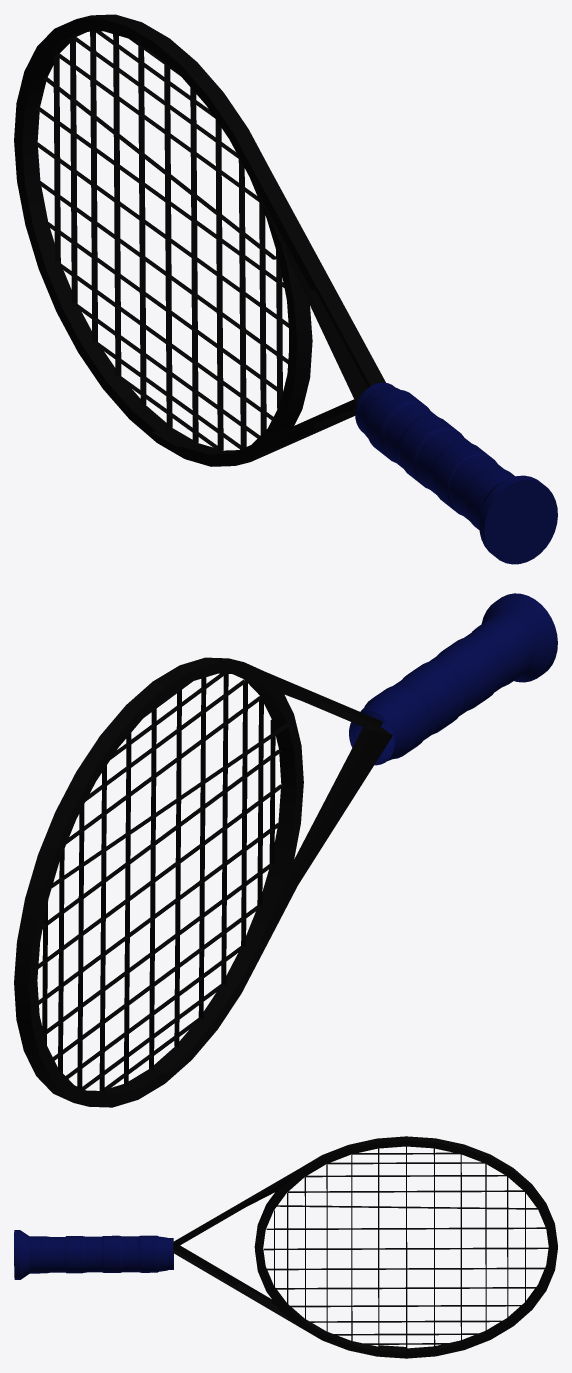
3 renders of one model, top to bottom at view 1: azimuth 30°, elevation 25°; view 2: azimuth 150°, elevation 25°; view 3: azimuth 270°, elevation 25°, orthographic. The views are drawn at different scales.
Visible parts, largest first — view 1: Cilindro_2; view 2: Cilindro_2; view 3: Cilindro_2.
Boxes of the visible parts, x1,y1,x2,y2 form: Cilindro_2: [14, 14, 557, 564]; Cilindro_2: [14, 593, 557, 1107]; Cilindro_2: [14, 1136, 557, 1358].
Bounding box in the file's own units: 0.3816 × 2.01 × 4.55.
